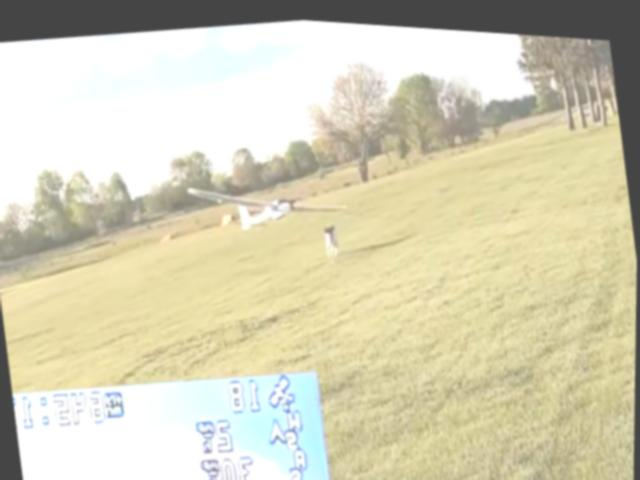iha: (197, 167, 348, 236)
